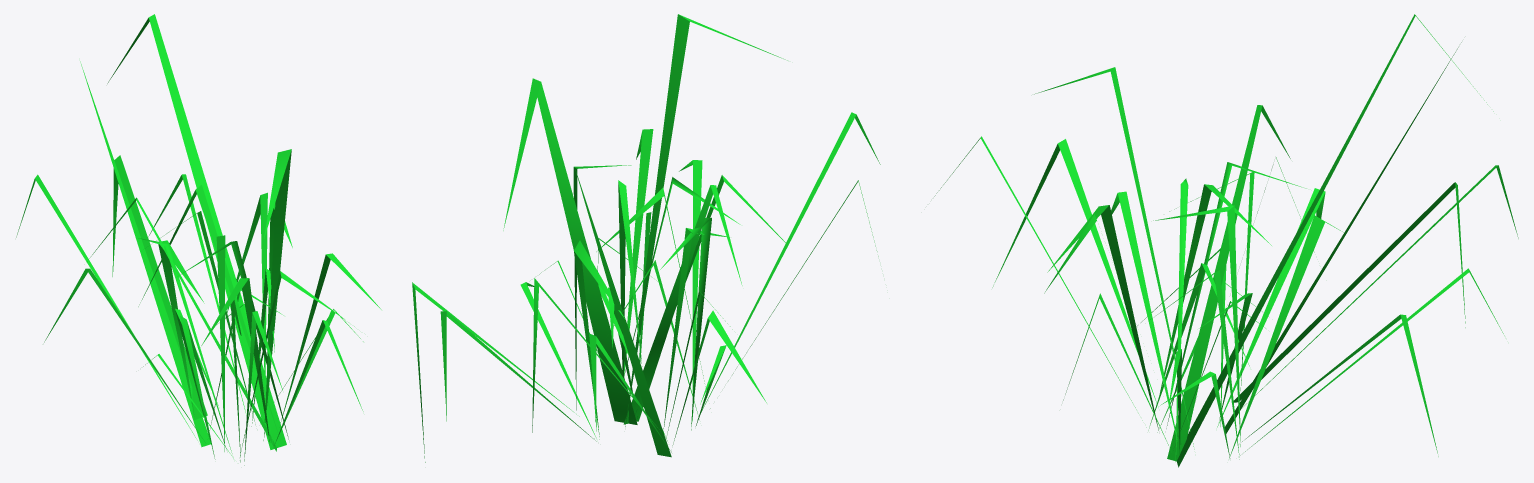
Rendered from Grass2_Culled.fbx.
3 views of the same model, side by side, from view 1: azimuth 30°, elevation 25°; view 2: azimuth 150°, elevation 25°; view 3: azimuth 270°, elevation 25° (orthographic). The views are drawn at different scales.
Visible parts, largest first — view 1: grass.001; view 2: grass.001; view 3: grass.001.
Boxes of the visible parts, bbox=[...] form: grass.001: bbox=[16, 14, 381, 465]; grass.001: bbox=[412, 14, 880, 462]; grass.001: bbox=[934, 14, 1518, 467].
Bounding box in the file's own units: 361 × 469 × 589.
